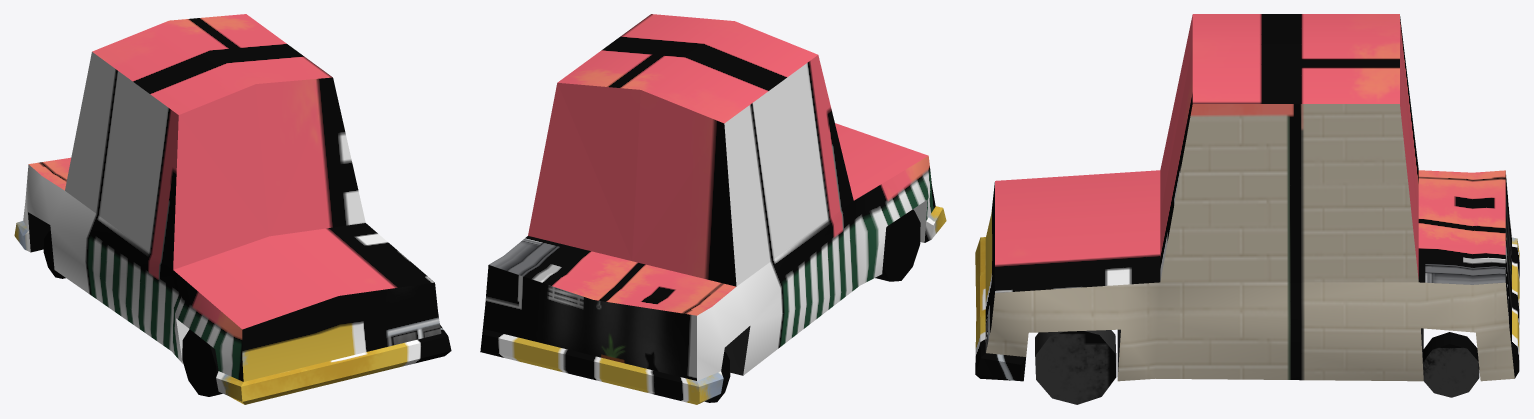
File: Car_01.FBX
The picture shows the model from 3 angles, left to right: view 1: azimuth 30°, elevation 25°; view 2: azimuth 150°, elevation 25°; view 3: azimuth 270°, elevation 25°; orthographic projection. The views are drawn at different scales.
Parts seen in each view (by area): view 1: Box063; view 2: Box063; view 3: Box063.
Part boxes in pixels (x1,y1,x2,y2): Box063: (14, 14, 451, 404); Box063: (480, 14, 946, 404); Box063: (975, 14, 1519, 404).
Size of the model in its own units: 110 by 118 by 194.
